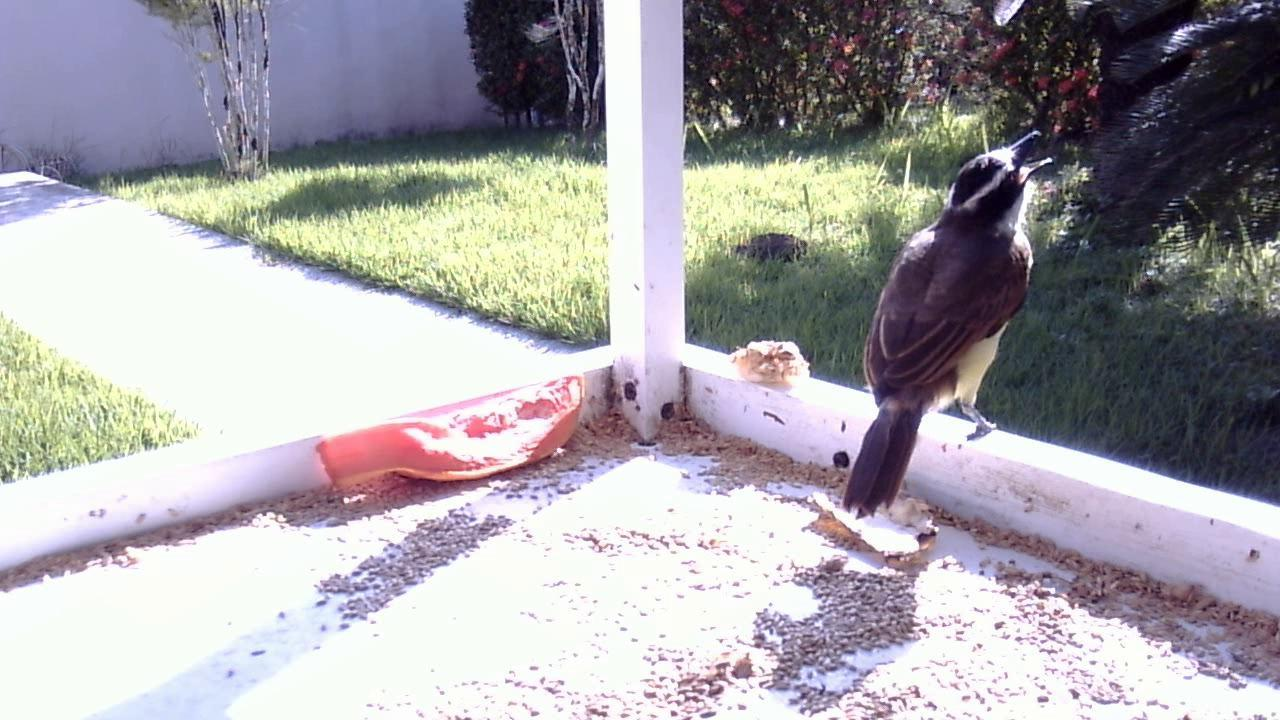bem_te_vi: (825, 124, 1071, 551)
